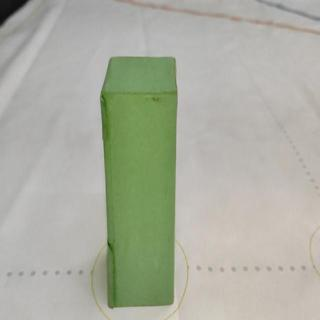greenbox: (98, 53, 179, 307)
